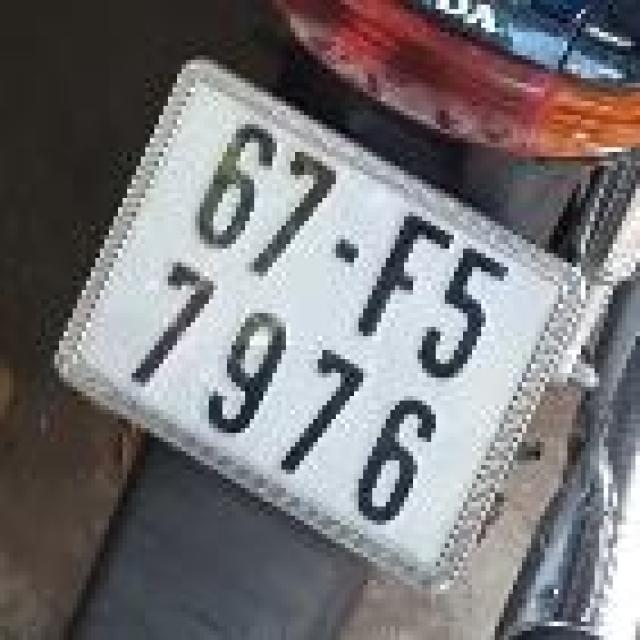5: (398, 232, 534, 398)
6: (178, 106, 308, 267), (339, 384, 465, 545)
7: (250, 333, 379, 491), (112, 248, 240, 400), (234, 142, 353, 290)
9: (192, 290, 325, 452)
F: (344, 198, 465, 356)
